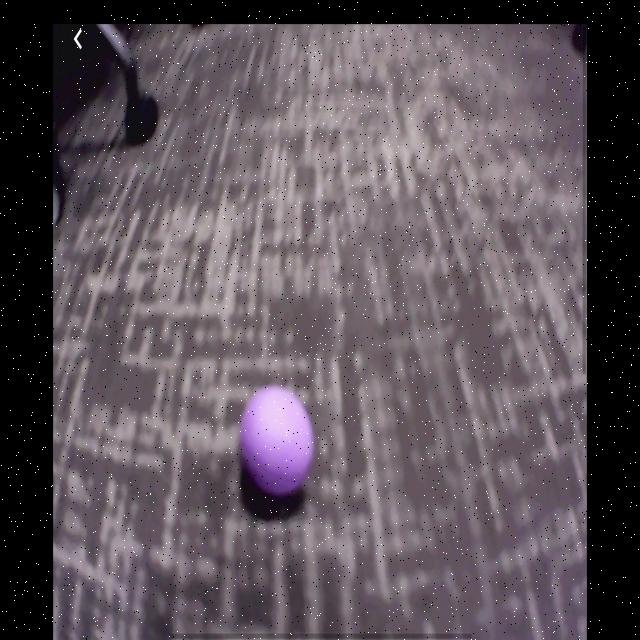ball: (238, 382, 315, 498)
